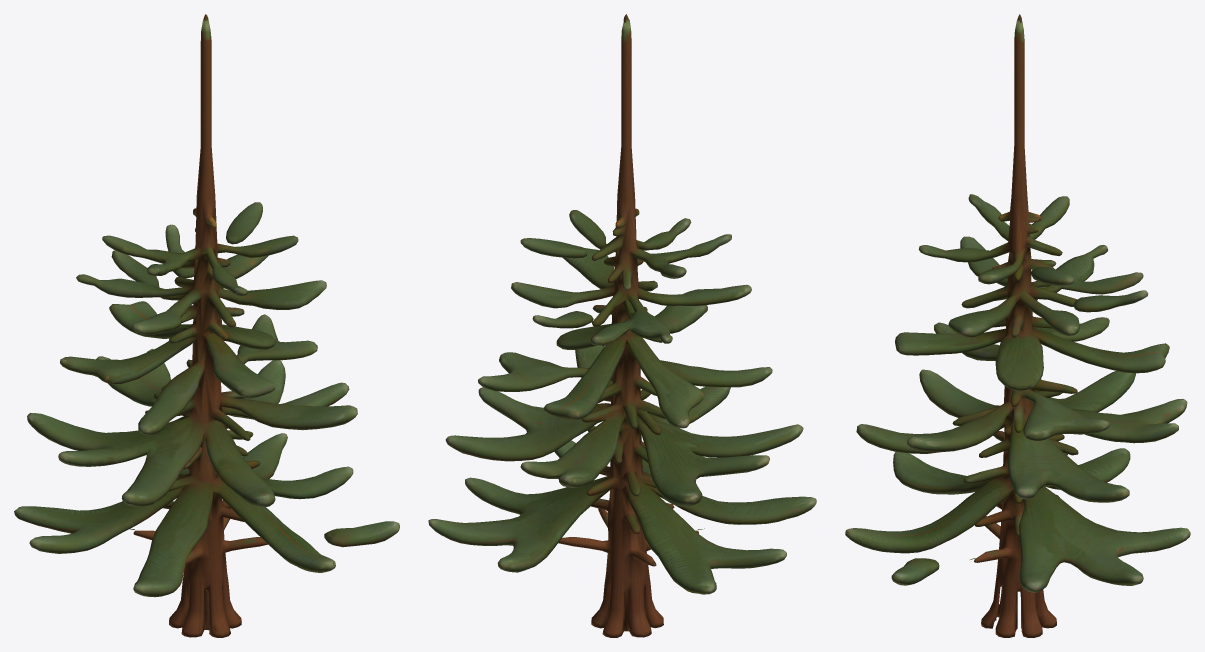
Rendered from a_pine_tree_3555a46f_v2.glb.
3 renders of one model, left to right at view 1: azimuth 30°, elevation 25°; view 2: azimuth 150°, elevation 25°; view 3: azimuth 270°, elevation 25°, orthographic.
Visible parts, largest first — view 1: material; view 2: material; view 3: material.
Part boxes in pixels (bbox=[...]): material: bbox=[14, 14, 399, 637]; material: bbox=[428, 14, 816, 637]; material: bbox=[845, 14, 1190, 637].
Bounding box in the file's own units: 1.05 × 1.9 × 0.9744.
Materials: 1 (1 with a texture image).
